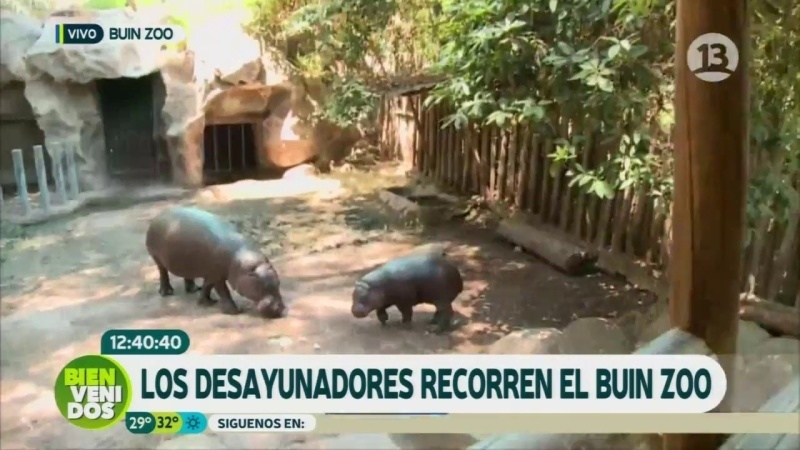hipopotamo: (138, 193, 302, 329), (337, 245, 473, 342)
